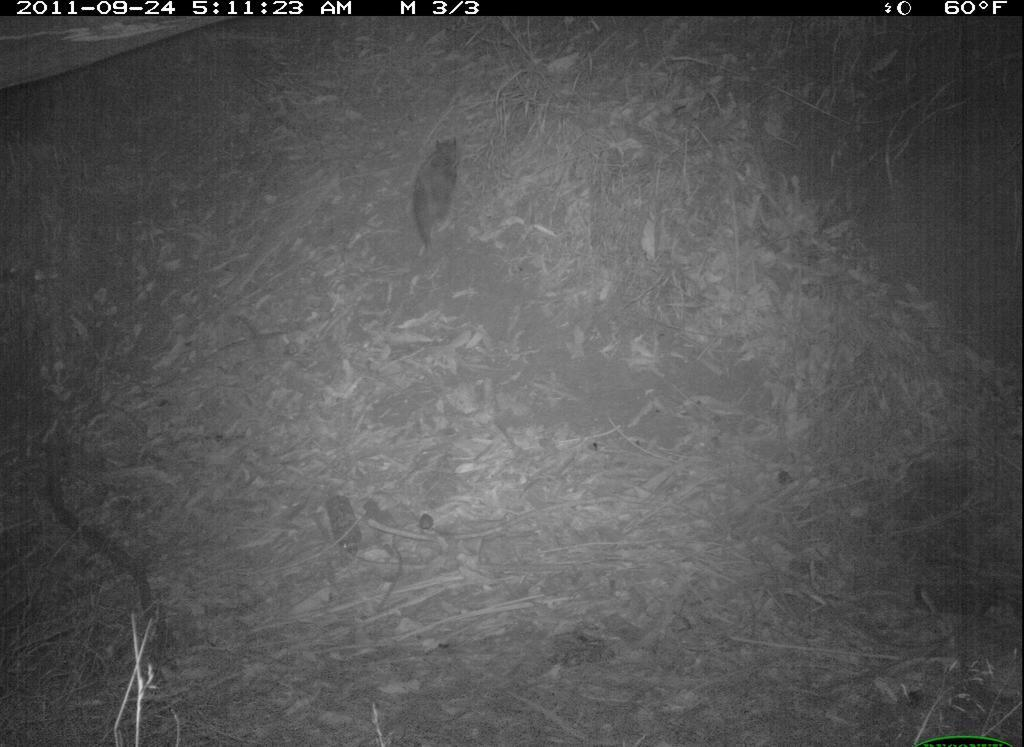opossum: (409, 131, 468, 272)
